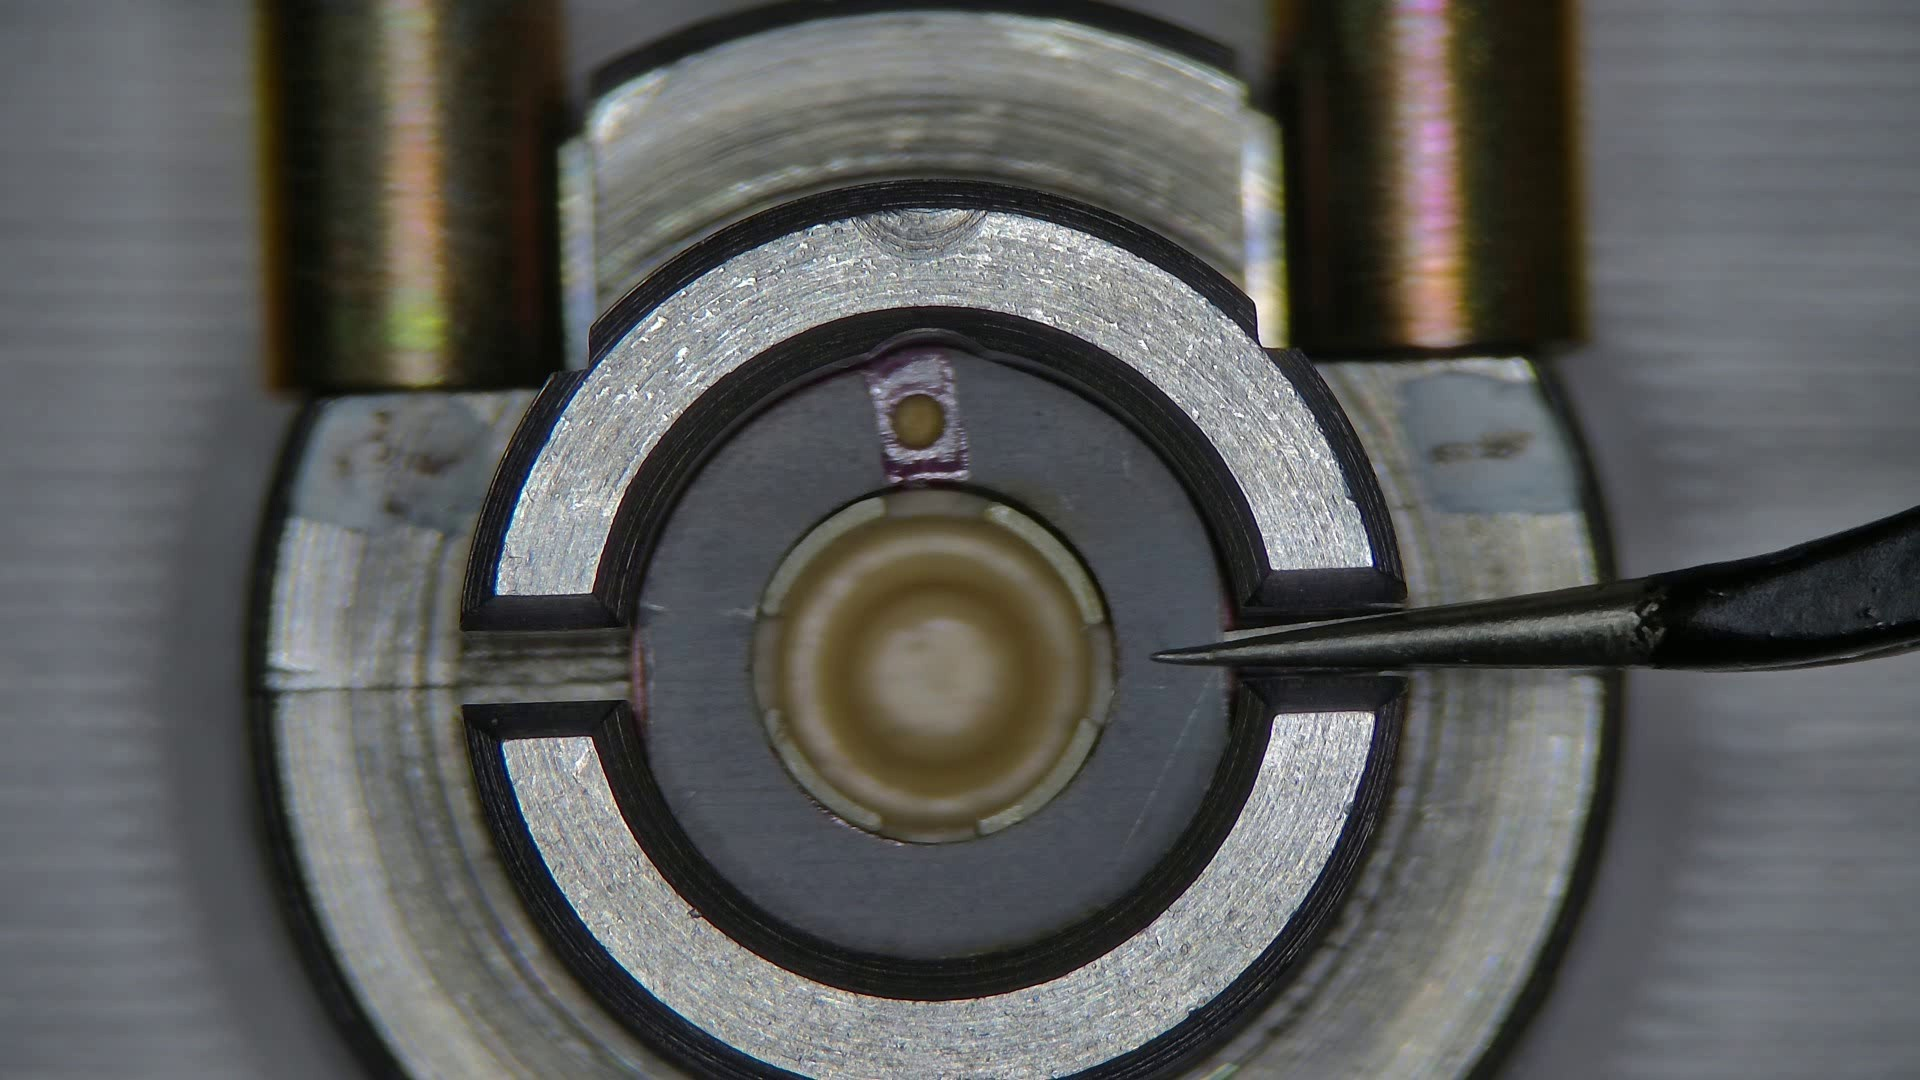YellowOring: (641, 347, 1226, 963)
